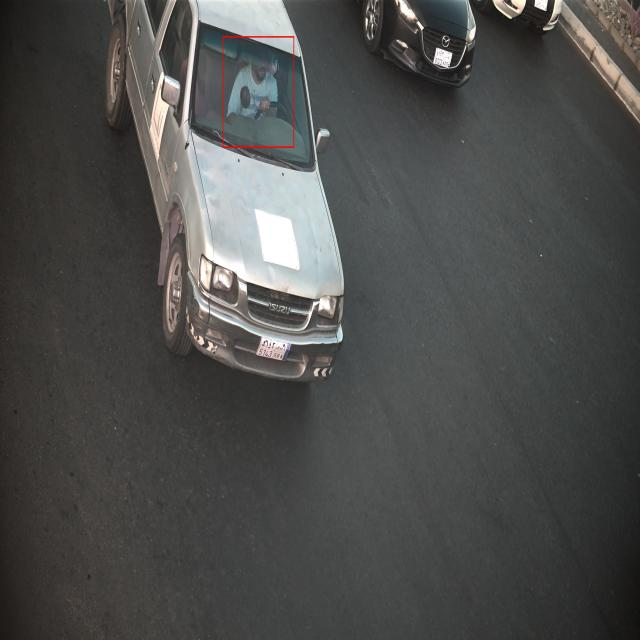windshield: (183, 16, 320, 172)
